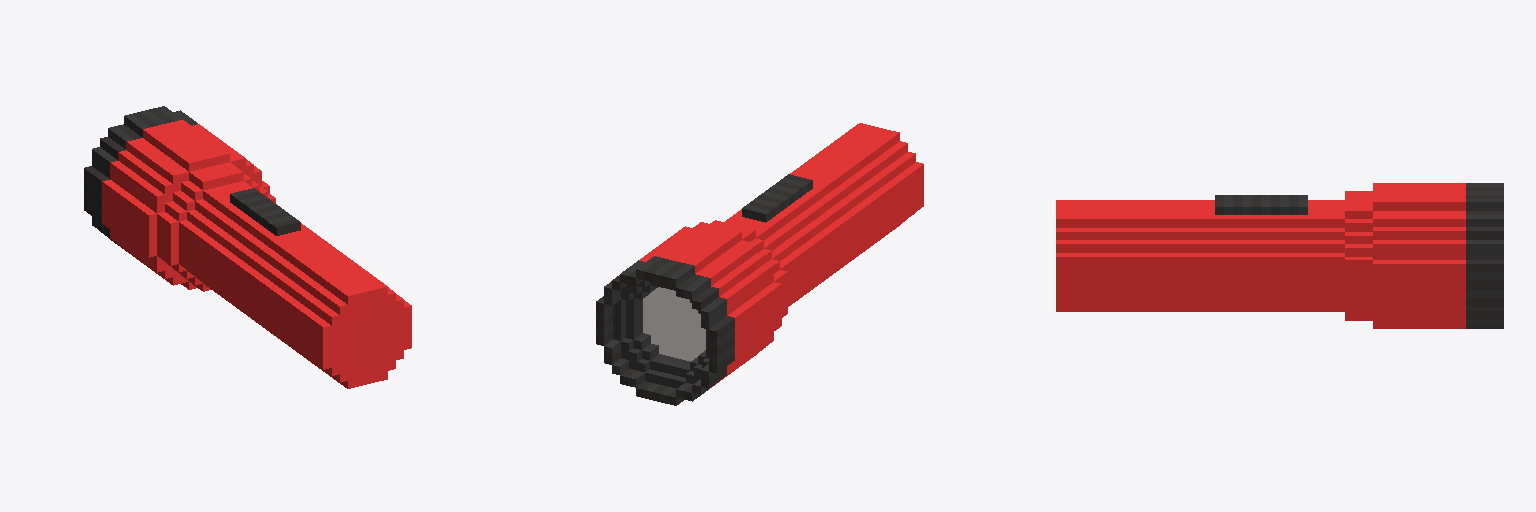
3 views of the same model, side by side, from view 1: azimuth 30°, elevation 25°; view 2: azimuth 150°, elevation 25°; view 3: azimuth 270°, elevation 25° (orthographic).
Parts seen in each view (by area): view 1: object 1; view 2: object 1; view 3: object 1.
Part boxes in pixels (x1,y1,x2,y2): object 1: (84, 106, 411, 388); object 1: (596, 123, 923, 405); object 1: (1056, 183, 1503, 328).
Size of the model in its own units: 1.5 by 1.5 by 4.8.
Materials: 1 (1 with a texture image).